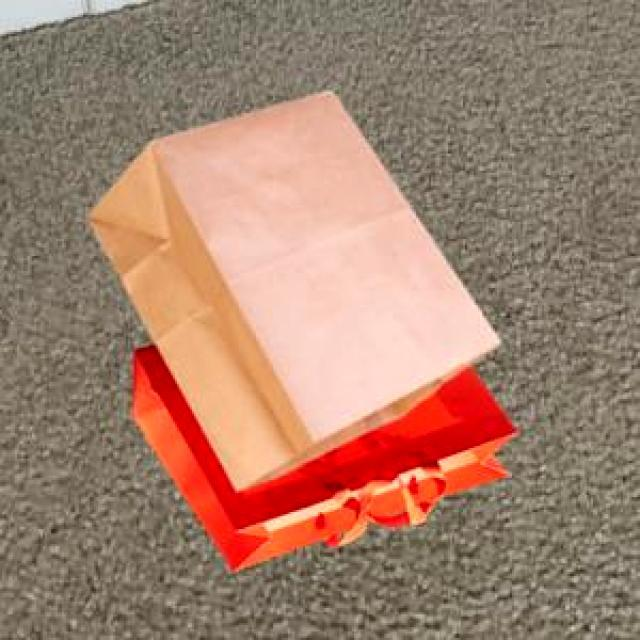Paper_Bag: (86, 89, 496, 488), (131, 342, 513, 568)
